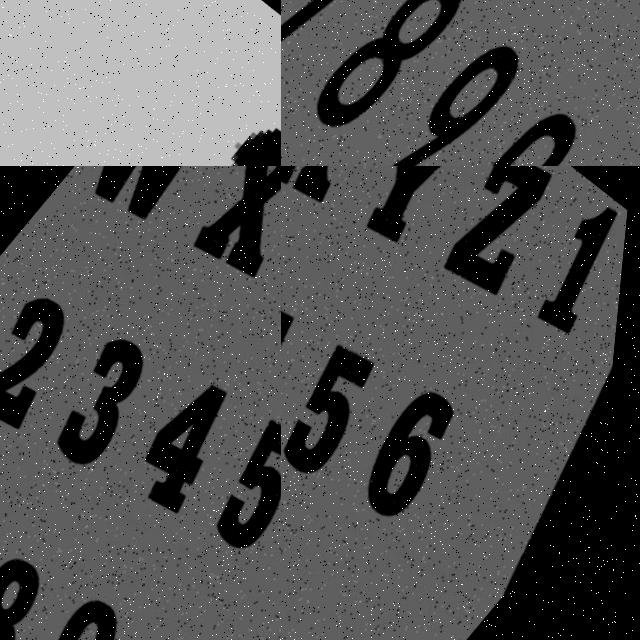0: (385, 55, 640, 166), (66, 605, 274, 640)
1: (497, 186, 633, 358)
2: (0, 270, 117, 456)
3: (23, 319, 193, 490)
4: (82, 335, 281, 543), (281, 260, 359, 468)
5: (281, 311, 434, 510), (169, 386, 281, 585)
6: (313, 345, 530, 562)
7: (281, 0, 479, 105), (0, 474, 32, 640)
8: (281, 0, 531, 166), (0, 523, 100, 640)
9: (329, 0, 588, 166), (0, 562, 185, 640)
J: (0, 0, 281, 166)
